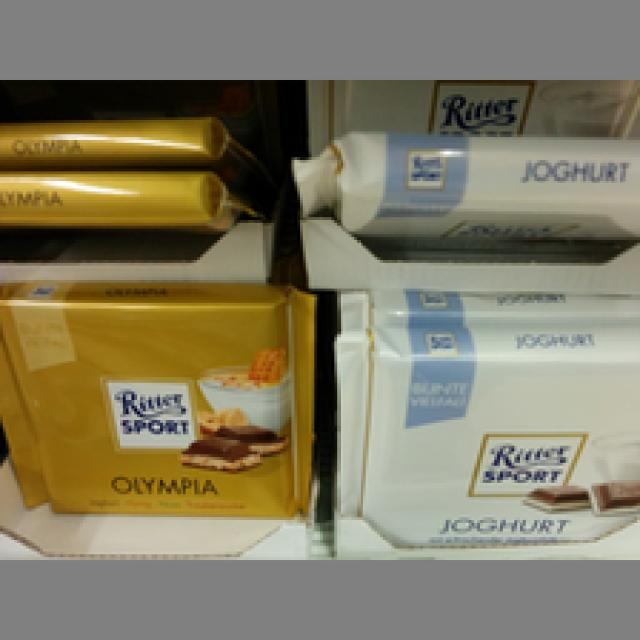groceries: (0, 274, 309, 517), (323, 323, 637, 546), (283, 123, 637, 243)
